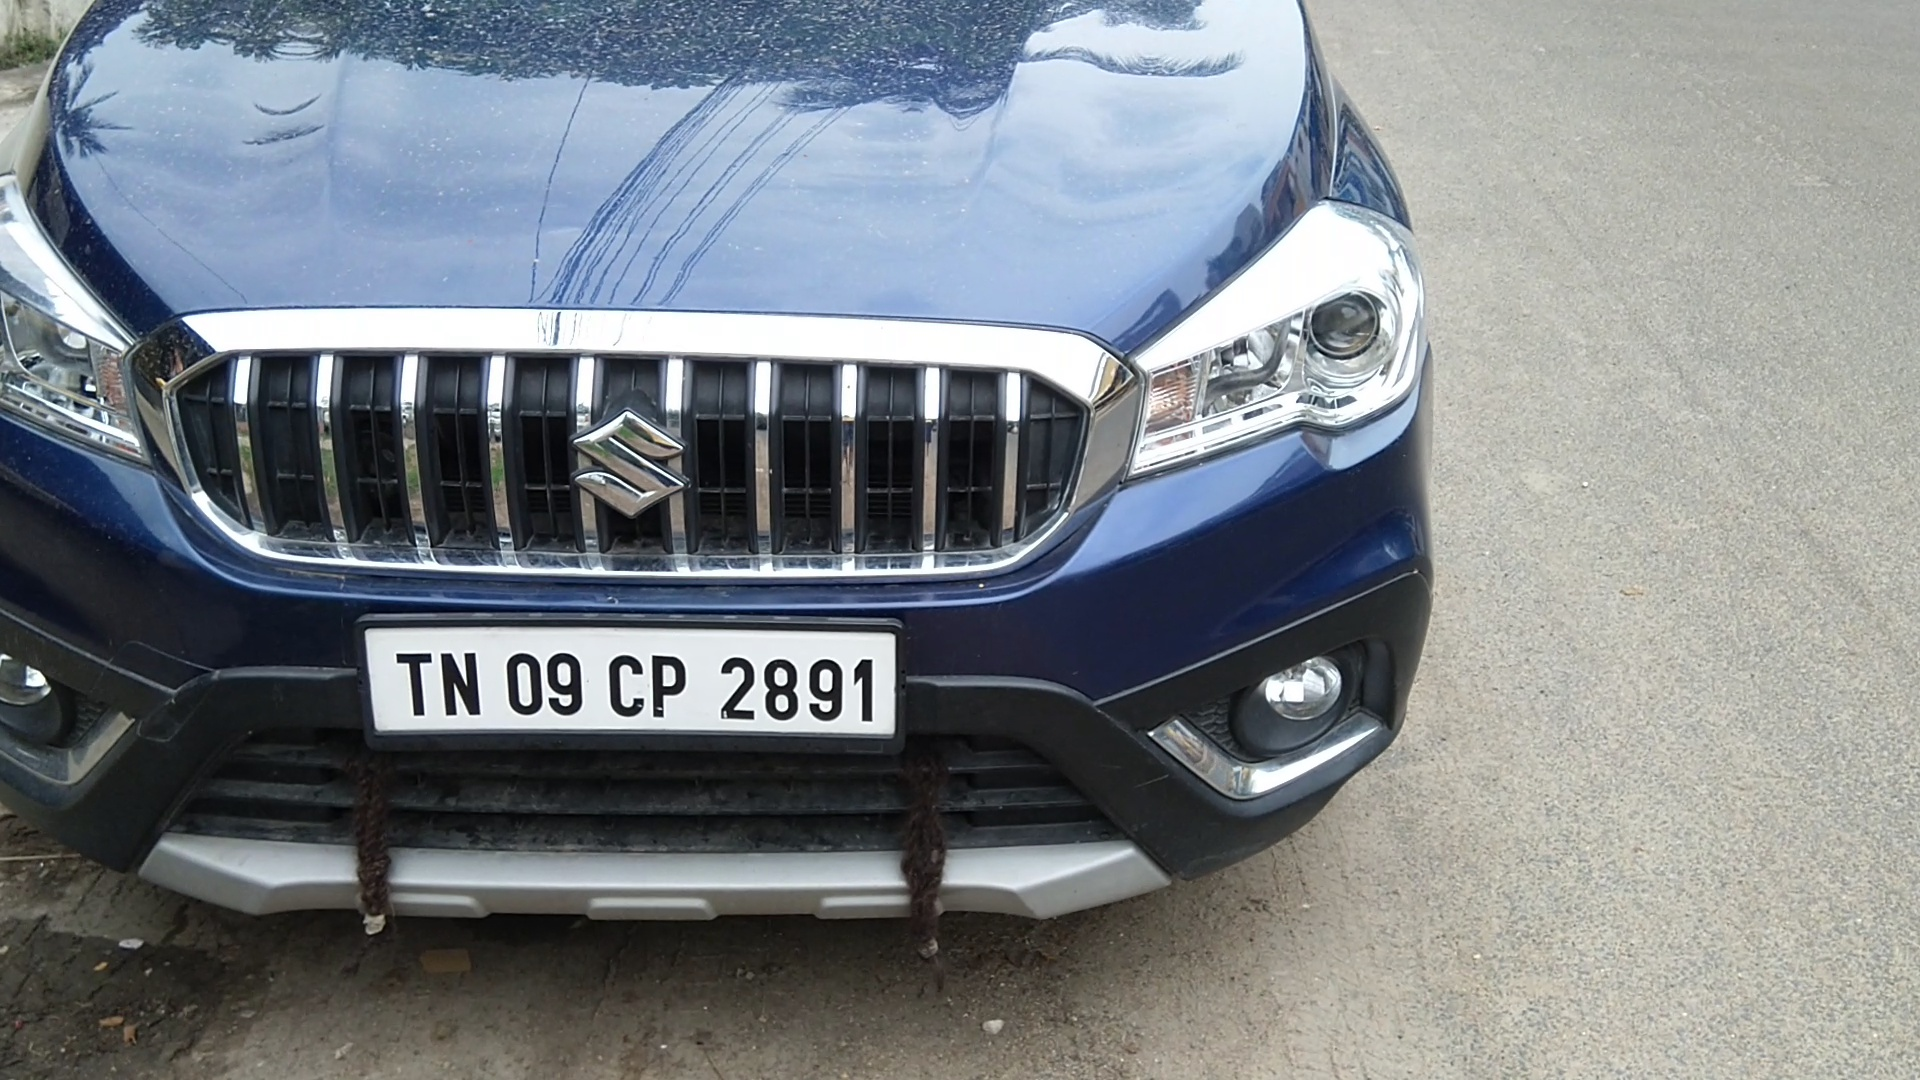front_grill: (144, 299, 1124, 628)
headlamp: (1131, 190, 1432, 491), (1, 175, 138, 496)
